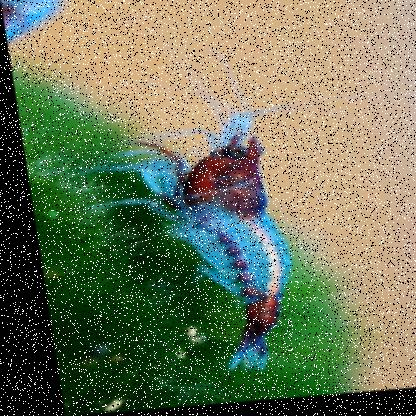shrimp: (82, 110, 298, 384)
